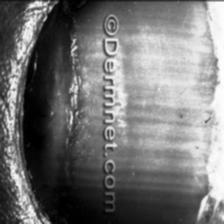Toxin: (19, 0, 92, 224)
